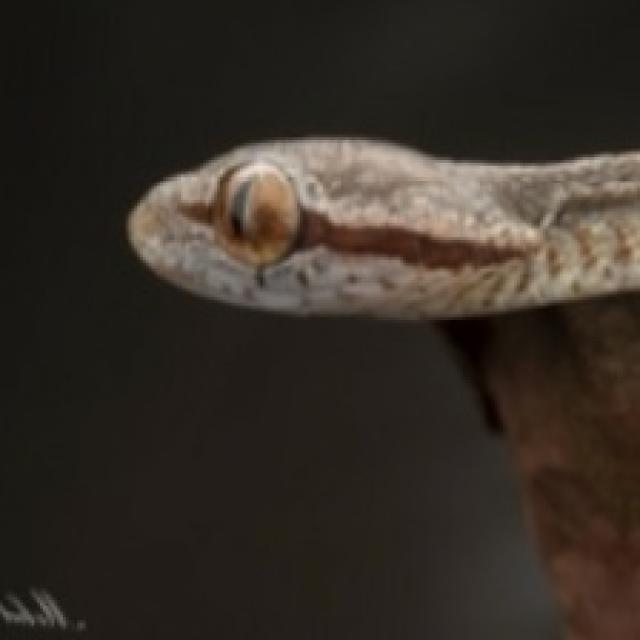dog-toothed cat snake: (129, 139, 640, 319)
